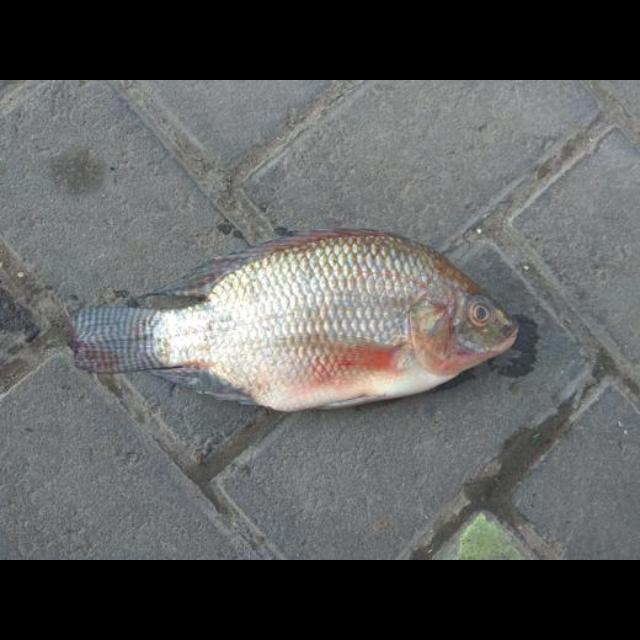Tilapia: (71, 231, 515, 414)
